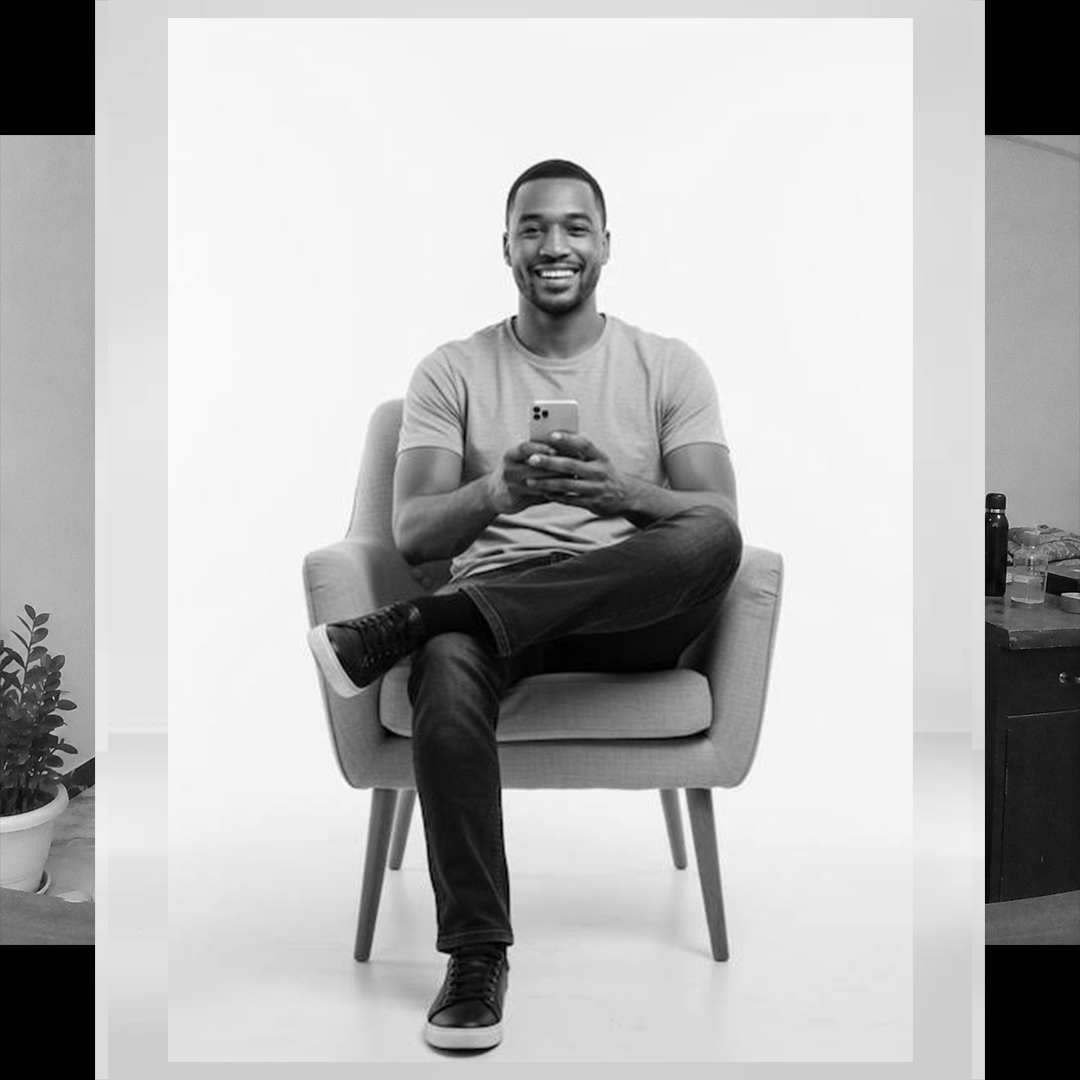Focused: (415, 105, 760, 710)
